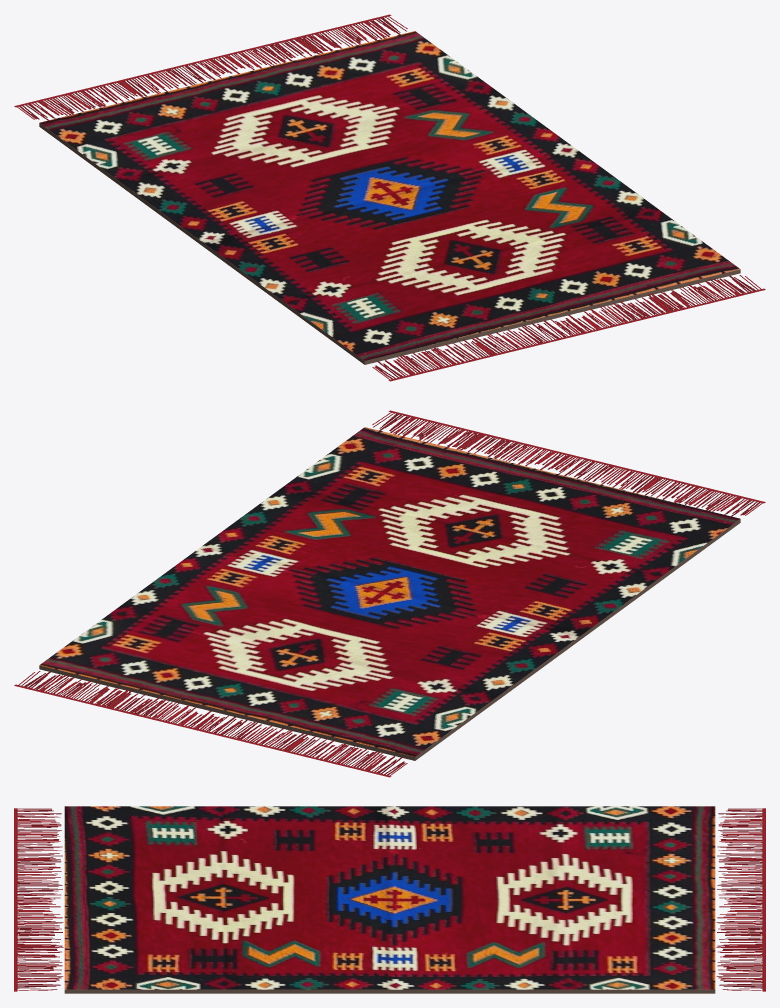
3 renders of one model, top to bottom at view 1: azimuth 30°, elevation 25°; view 2: azimuth 150°, elevation 25°; view 3: azimuth 270°, elevation 25°, orthographic.
Visible parts, largest first — view 1: rug, fringeB, fringeA, side; view 2: rug, fringeA, fringeB, side; view 3: rug, fringeA, fringeB, side.
Boxes of the visible parts, x1,y1,x2,y2 form: rug: [39, 31, 739, 360]; fringeB: [372, 275, 765, 381]; fringeA: [14, 14, 407, 120]; side: [39, 123, 740, 364]; rug: [40, 427, 740, 756]; fringeA: [14, 671, 407, 777]; fringeB: [372, 410, 765, 516]; side: [39, 519, 740, 760]; rug: [64, 806, 715, 989]; fringeA: [716, 808, 765, 991]; fringeB: [14, 808, 63, 991]; side: [64, 989, 715, 993].
Size of what is drawn, in the model's own units: 0.6 by 0.00614 by 1.04.
Materials: 2 (2 with a texture image).
